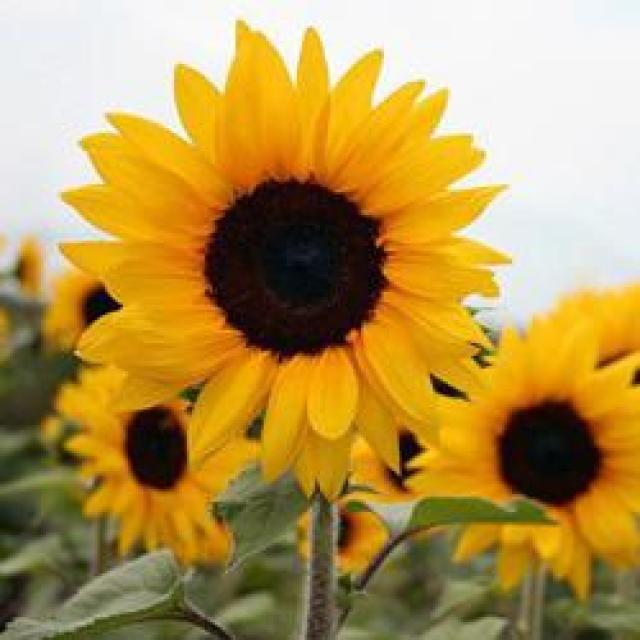sunflower: (53, 11, 526, 498), (397, 302, 640, 607), (47, 349, 260, 580)
